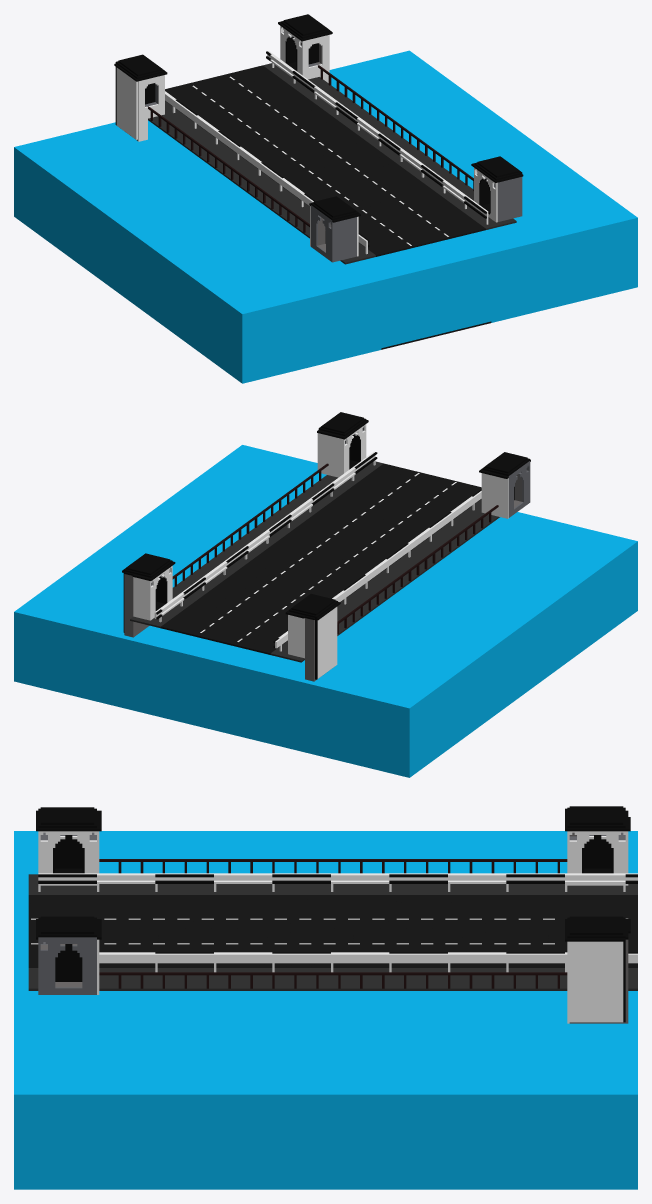
Rendered from Bridge.obj.
3 views of the same model, one above another, from view 1: azimuth 30°, elevation 25°; view 2: azimuth 150°, elevation 25°; view 3: azimuth 270°, elevation 25° (orthographic). The views are drawn at different scales.
Size of the model in its own units: 25.6 by 8.4 by 25.6.
